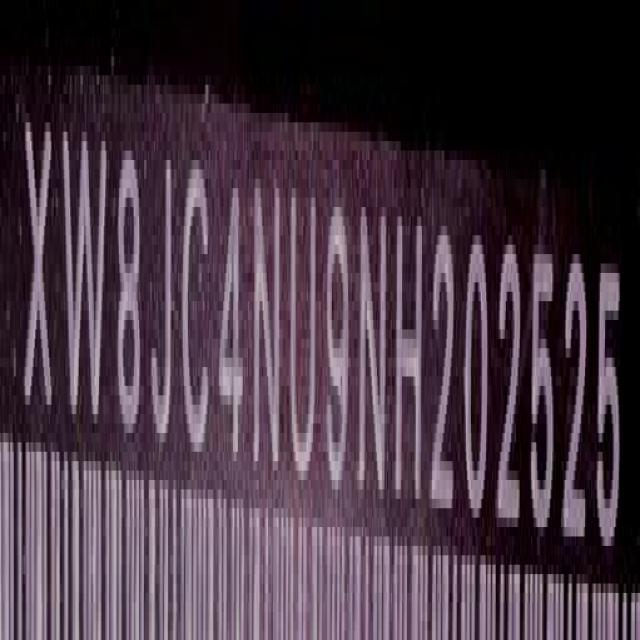0: (462, 233, 488, 536)
2: (563, 247, 588, 551), (431, 222, 456, 525), (500, 238, 525, 538)
4: (216, 165, 246, 481)
5: (595, 253, 620, 562), (531, 237, 556, 542)
8: (117, 140, 142, 445)
9: (326, 194, 349, 502)
C: (184, 157, 212, 470)
H: (396, 205, 426, 514)
J: (150, 140, 174, 446)
N: (360, 197, 388, 512), (254, 167, 281, 481)
U: (290, 185, 319, 481)
W: (62, 115, 108, 440)
X: (24, 94, 54, 425)
